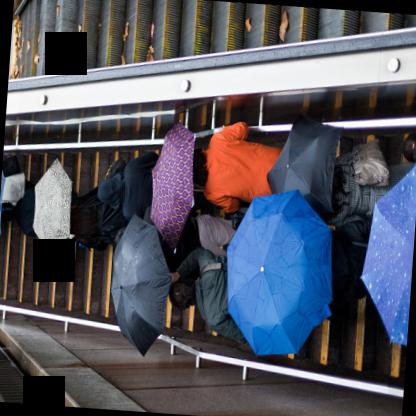handbag: (351, 137, 390, 186), (2, 171, 26, 203)
